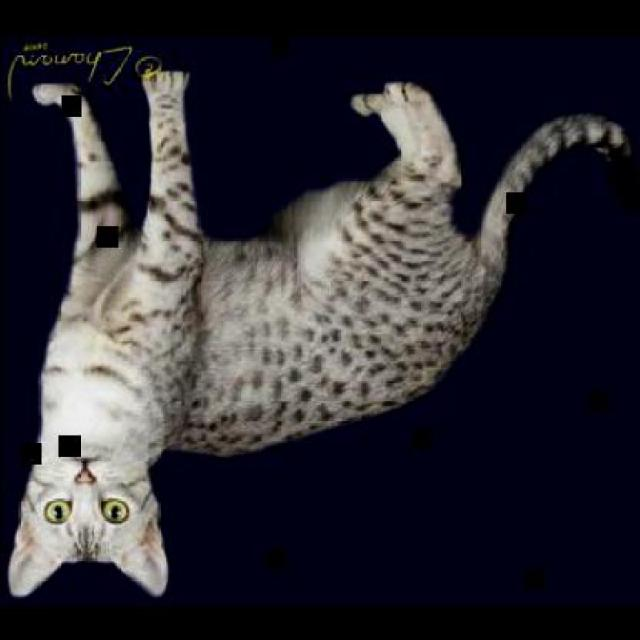unauthorized: (5, 66, 632, 599)
